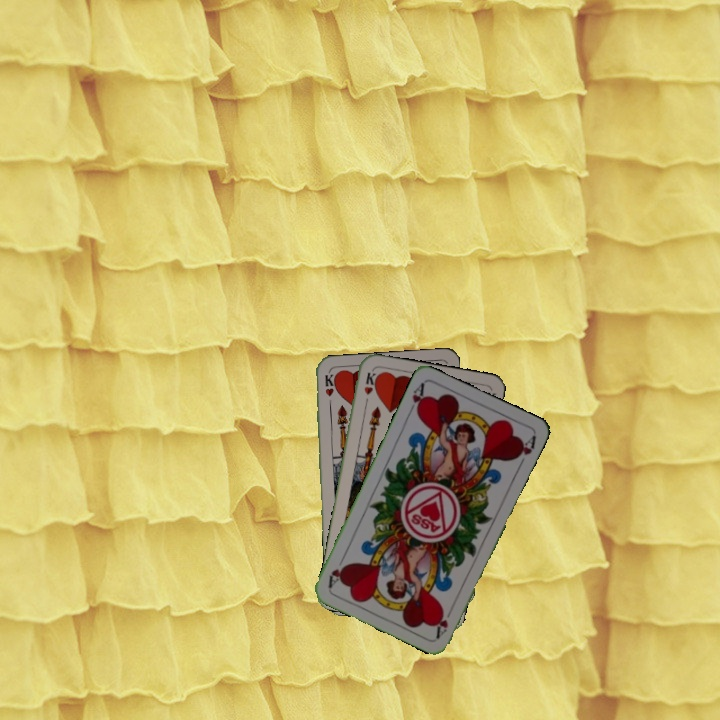HA: (403, 379, 428, 418), (432, 601, 457, 640)
HK: (360, 368, 379, 408), (321, 370, 336, 411)
